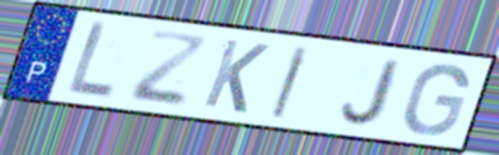G: (400, 62, 472, 138)
I: (268, 43, 314, 121)
J: (338, 56, 406, 128)
K: (199, 36, 273, 116)
L: (63, 19, 118, 103)
Z: (126, 27, 212, 110)
